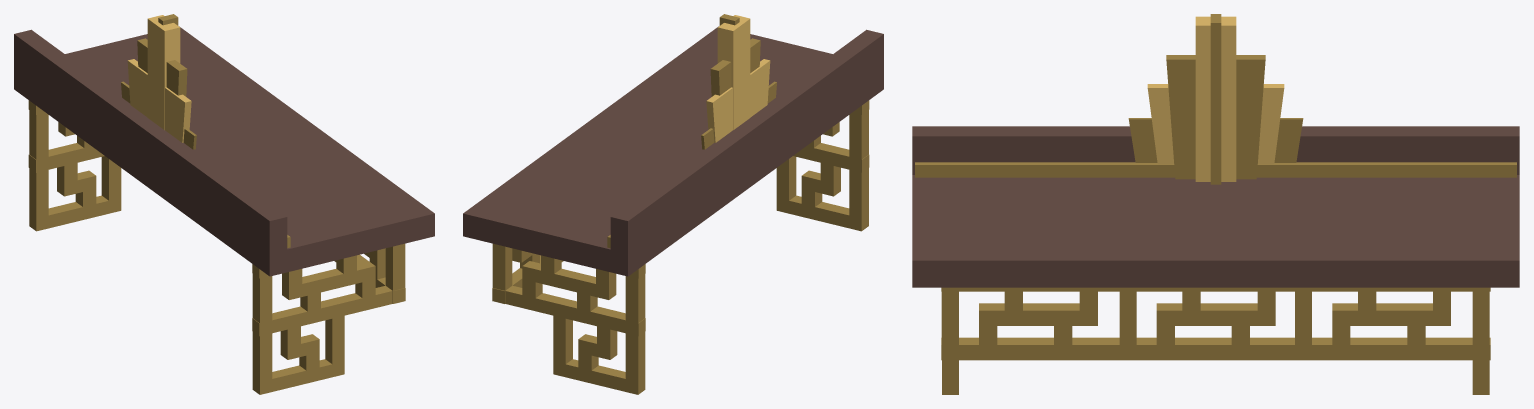
Rendered from SHELF.fbx.
3 renders of one model, left to right at view 1: azimuth 30°, elevation 25°; view 2: azimuth 150°, elevation 25°; view 3: azimuth 270°, elevation 25°, orthographic. The views are drawn at different scales.
Visible parts, largest first — view 1: Shelf_floating_shelf, gold_stuff, Shelf_back_decor; view 2: Shelf_floating_shelf, gold_stuff, Shelf_back_decor; view 3: Shelf_floating_shelf, gold_stuff, Shelf_back_decor.
Boxes of the visible parts, box(x1,y1,x2,y2) form: Shelf_floating_shelf: box(14, 26, 434, 276); gold_stuff: box(28, 100, 405, 394); Shelf_back_decor: box(121, 14, 196, 149); Shelf_floating_shelf: box(463, 26, 883, 276); gold_stuff: box(492, 100, 869, 394); Shelf_back_decor: box(701, 14, 776, 149); Shelf_floating_shelf: box(912, 126, 1519, 287); gold_stuff: box(941, 287, 1490, 394); Shelf_back_decor: box(1128, 14, 1303, 184).
Size of the model in its own units: 9.57 by 15.91 by 25.68.
